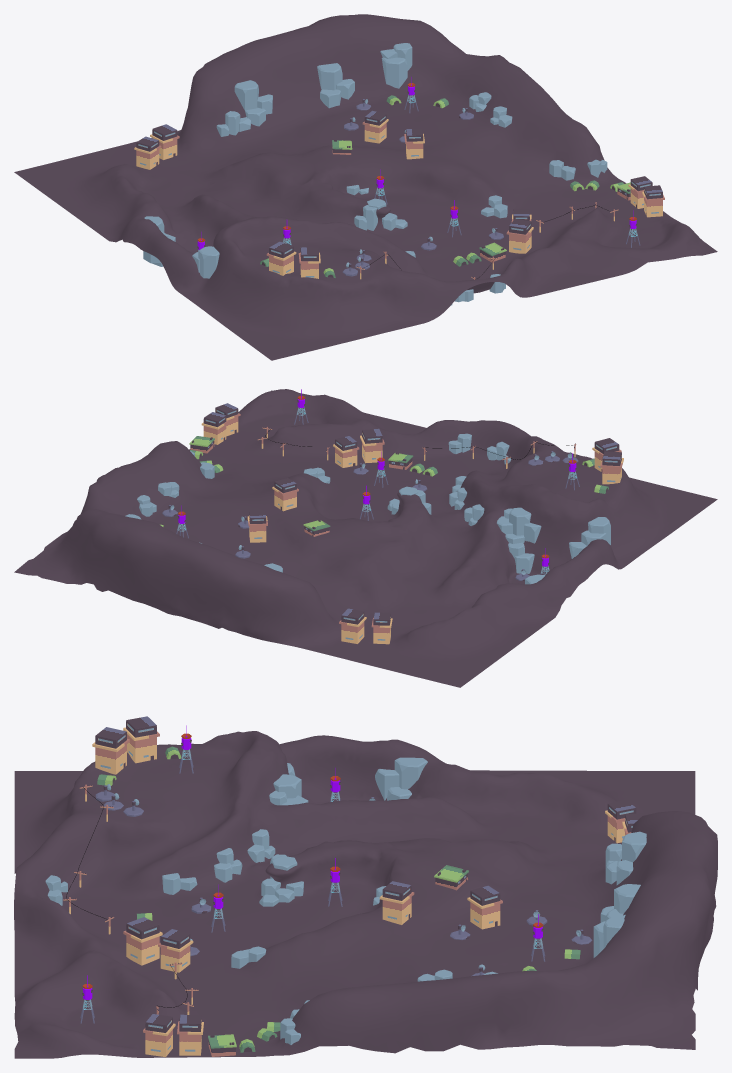
Rendered from BaseMapV1.glb.
3 renders of one model, top to bottom at view 1: azimuth 30°, elevation 25°; view 2: azimuth 150°, elevation 25°; view 3: azimuth 270°, elevation 25°, orthographic. The views are drawn at different scales.
Parts seen in each view (by area): view 1: Plane, Cube.016, Cube.010, Cube.024, Cube.023, Cube.020, Cylinder.116, Cube.015, Cube.017, Cylinder.112, Cylinder.115, Cube.021 (+1 smaller); view 2: Plane, Cube.023, Cube.010, Cube.021, Cube.014, Cube.016, Cube.018, Cube.020, Cube.024, Cube.017; view 3: Plane, Cube.010, Cube.015, Cube.016, Cube.020, Cube.014, Cube.021, Cube.017, Cube.018, Cube.024, Cylinder.103, Cube.022 (+2 smaller).
Boxes of the visible parts, x1=… form: Plane: x1=14, y1=14, x2=717, y2=360; Cube.016: x1=266, y1=241, x2=296, y2=275; Cube.010: x1=506, y1=219, x2=533, y2=253; Cube.024: x1=134, y1=136, x2=161, y2=169; Cube.023: x1=150, y1=124, x2=179, y2=159; Cube.020: x1=362, y1=110, x2=388, y2=143; Cylinder.116: x1=381, y1=57, x2=407, y2=88; Cube.015: x1=298, y1=247, x2=320, y2=278; Cube.017: x1=642, y1=185, x2=664, y2=217; Cylinder.112: x1=234, y1=80, x2=258, y2=110; Cylinder.115: x1=317, y1=63, x2=342, y2=90; Cube.021: x1=404, y1=128, x2=424, y2=159; Plane: x1=14, y1=389, x2=717, y2=687; Cube.023: x1=339, y1=608, x2=366, y2=643; Cube.010: x1=360, y1=428, x2=384, y2=463; Cube.021: x1=272, y1=478, x2=298, y2=511; Cube.014: x1=333, y1=436, x2=359, y2=467; Cube.016: x1=600, y1=451, x2=623, y2=484; Cube.018: x1=201, y1=412, x2=228, y2=444; Cube.020: x1=247, y1=511, x2=267, y2=542; Cube.024: x1=371, y1=612, x2=392, y2=644; Cube.017: x1=215, y1=403, x2=240, y2=436; Plane: x1=14, y1=731, x2=717, y2=1058; Cube.010: x1=123, y1=917, x2=162, y2=965; Cube.015: x1=92, y1=727, x2=129, y2=774; Cube.016: x1=123, y1=716, x2=159, y2=763; Cube.020: x1=467, y1=885, x2=502, y2=929; Cube.014: x1=158, y1=929, x2=193, y2=972; Cube.021: x1=379, y1=881, x2=414, y2=924; Cube.017: x1=143, y1=1014, x2=175, y2=1057; Cube.018: x1=177, y1=1014, x2=203, y2=1055; Cube.024: x1=605, y1=800, x2=636, y2=843; Cylinder.103: x1=394, y1=757, x2=427, y2=789; Cube.022: x1=434, y1=865, x2=468, y2=890.
Bounding box in the file's own units: 201 × 41.22 × 207.
4 materials, 3 textured.
